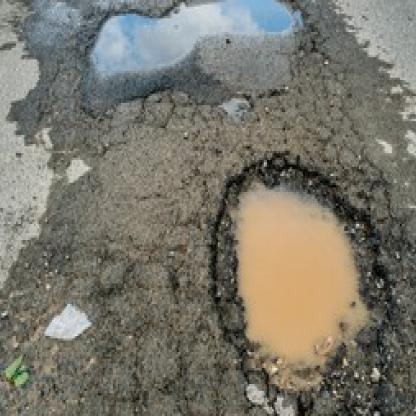pothole: (210, 155, 397, 416), (88, 0, 302, 78)
